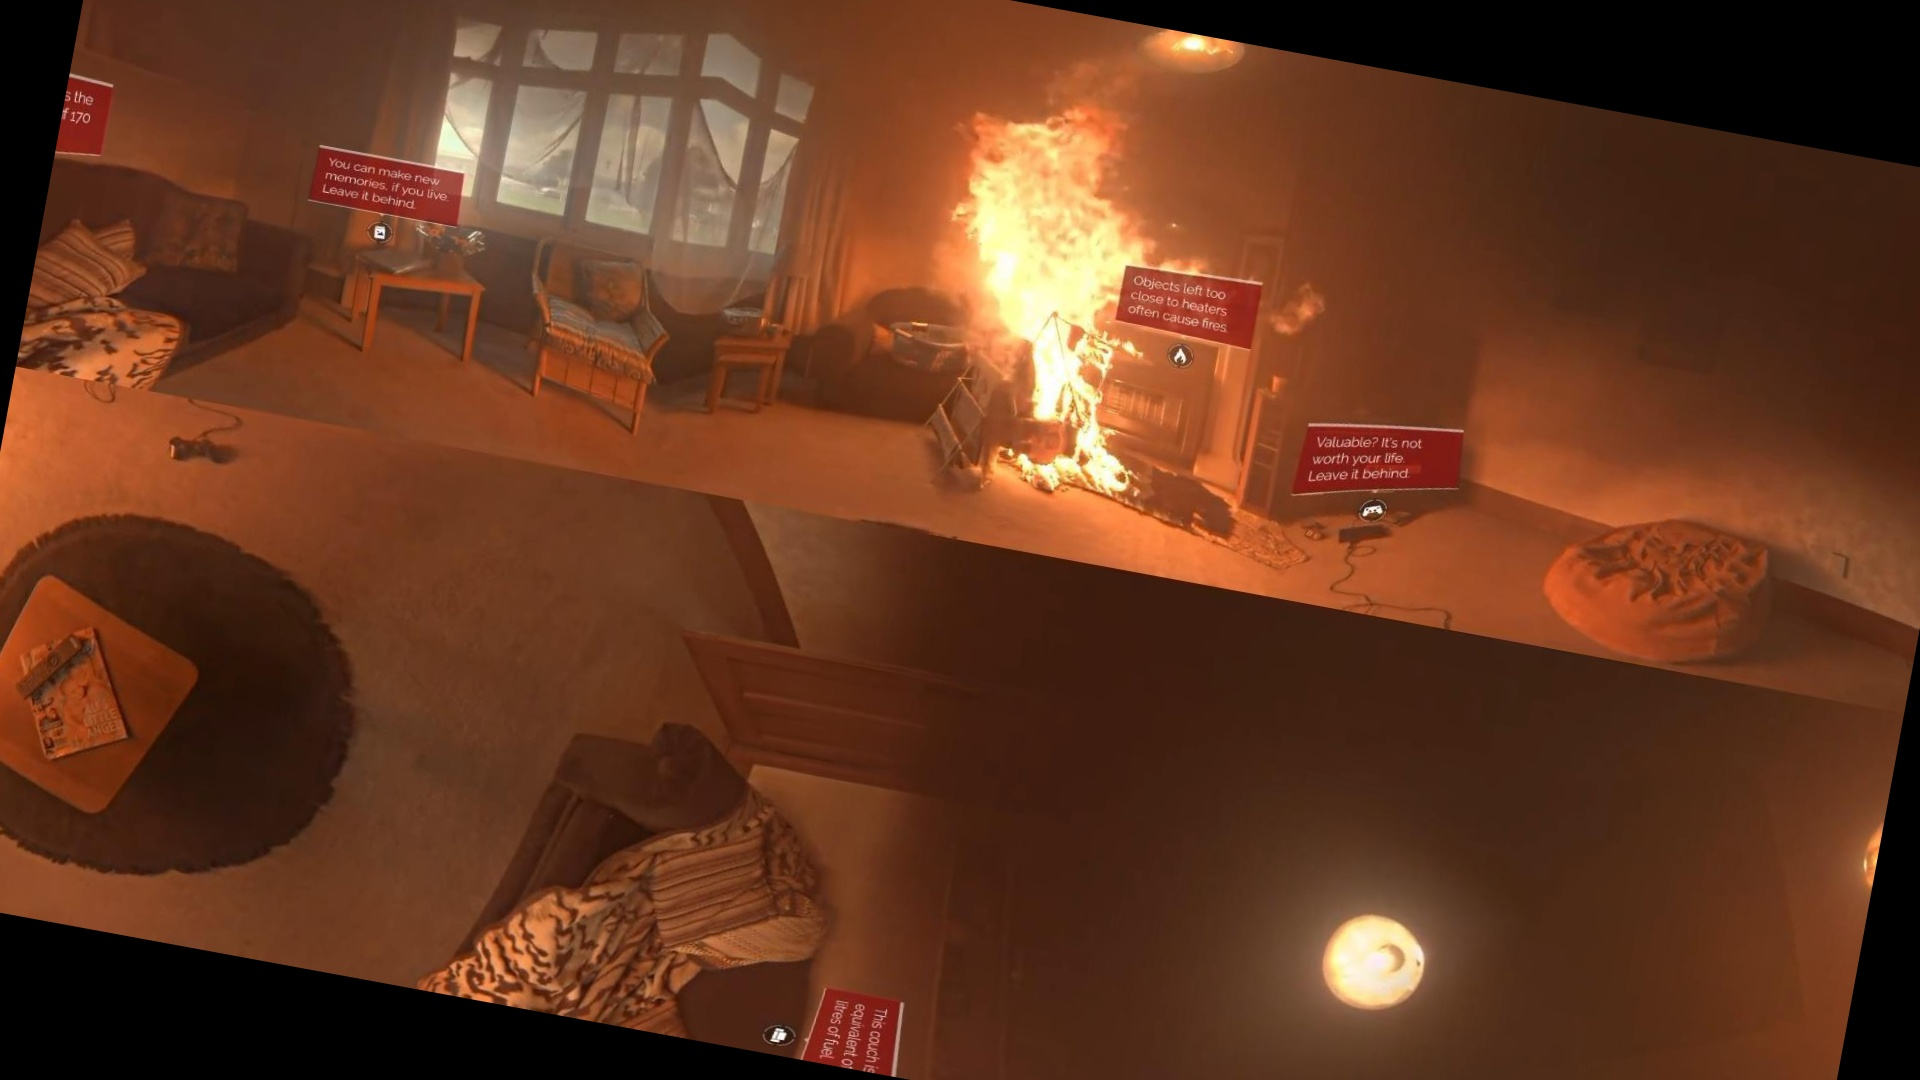fire: (916, 66, 1185, 431)
